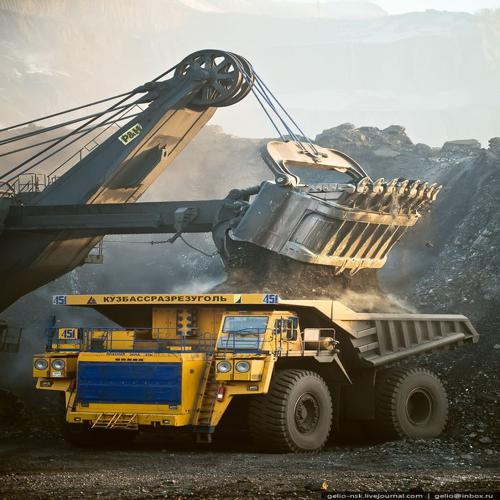con_eq: (33, 44, 473, 447)
